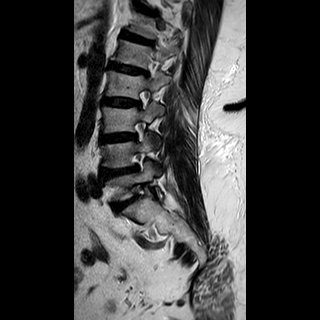LFS0: (130, 81, 152, 115), (128, 116, 151, 148), (126, 148, 152, 176)
LFS3: (125, 176, 153, 206)
